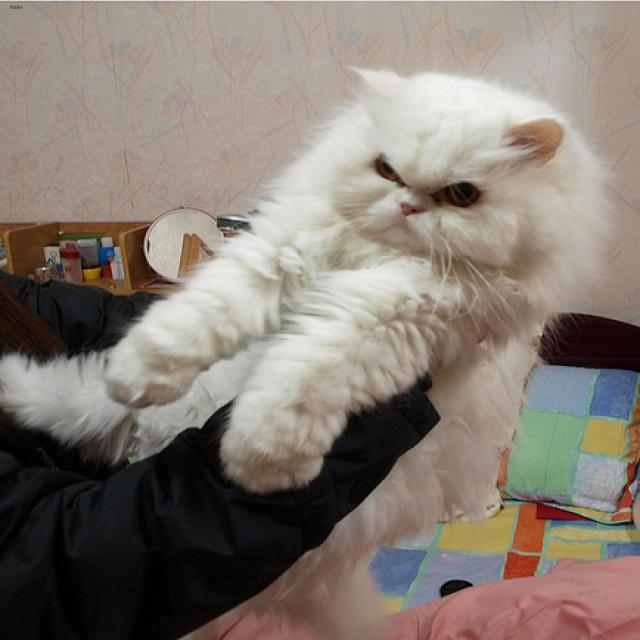Persian: (331, 66, 561, 249)
